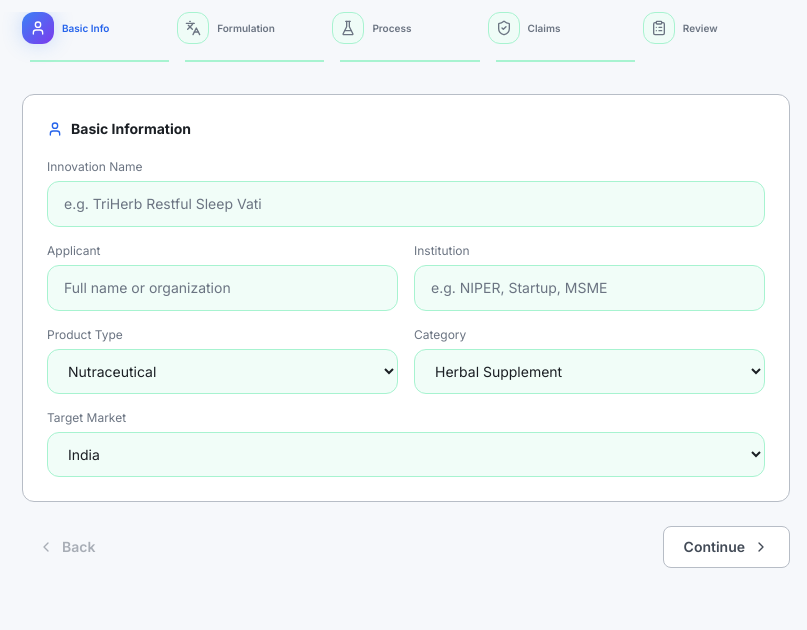
Test case: InnovationPassportForm formulation parsing › parses the formulation and renders the botanical mapping table
Click the button "Continue".
click(726, 547)  # box [663, 526, 790, 568]
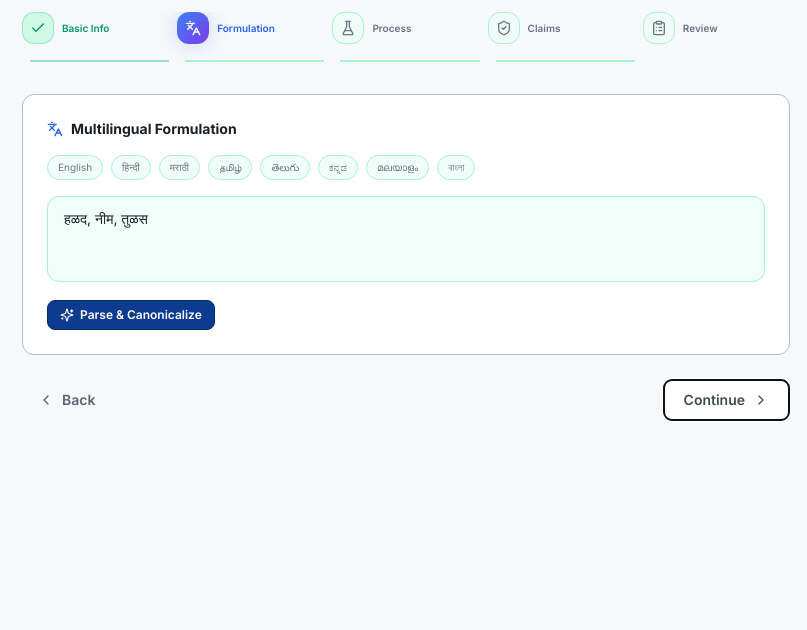
Click the button "Parse & Canonicalize".
click(131, 315)  # box [47, 300, 215, 330]
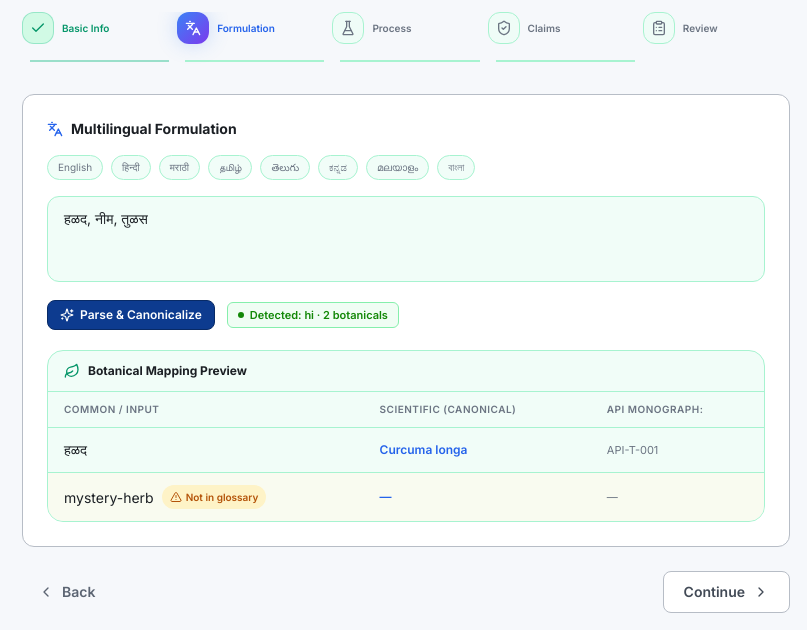
Result: the text "Detected: hi · 2 botanicals" is shown at [227, 302, 399, 328]
Result: the text "Curcuma longa" is shown at [364, 428, 591, 472]
Result: the text "Not in glossary" is shown at [162, 485, 266, 509]
